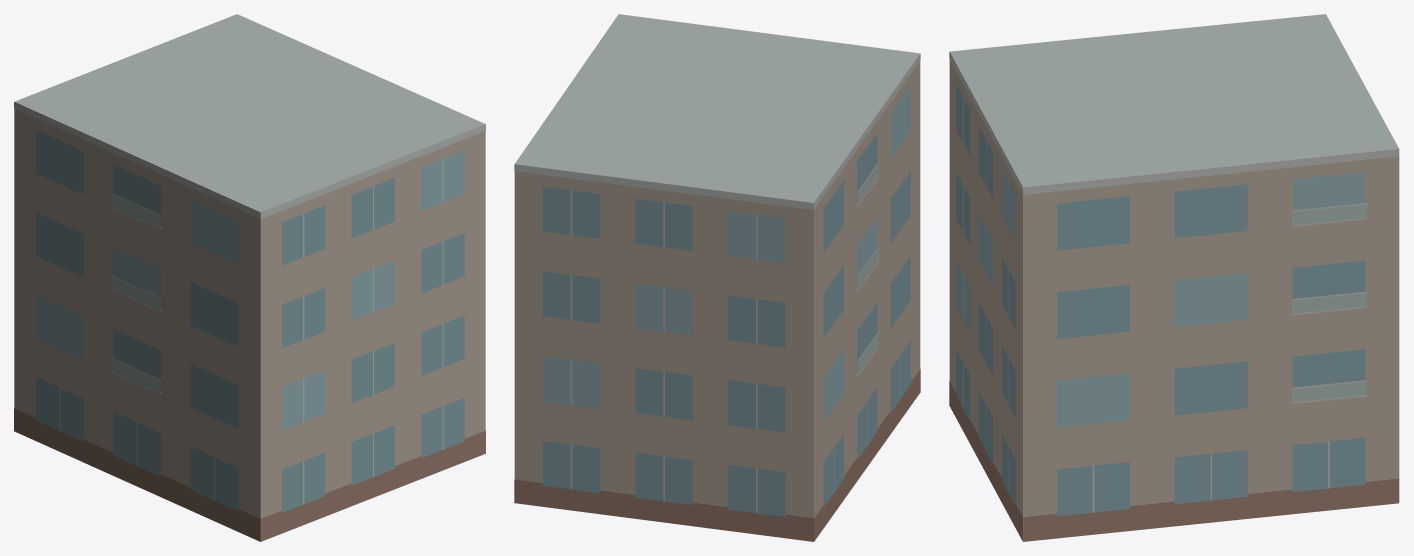
The model's file is survey-upis-32905640.glb.
The picture shows the model from 3 angles, left to right: view 1: azimuth 30°, elevation 25°; view 2: azimuth 150°, elevation 25°; view 3: azimuth 270°, elevation 25°; orthographic projection. The views are drawn at different scales.
Visible parts, largest first — view 1: survey-upis-32905640.tmp; view 2: survey-upis-32905640.tmp; view 3: survey-upis-32905640.tmp.
Part boxes in pixels (left/top/right/bottom): survey-upis-32905640.tmp: left=14, top=14, right=485, bottom=541; survey-upis-32905640.tmp: left=514, top=14, right=920, bottom=541; survey-upis-32905640.tmp: left=949, top=14, right=1399, bottom=541.
Bounding box in the file's own units: 12.3 × 11.7 × 13.47.
